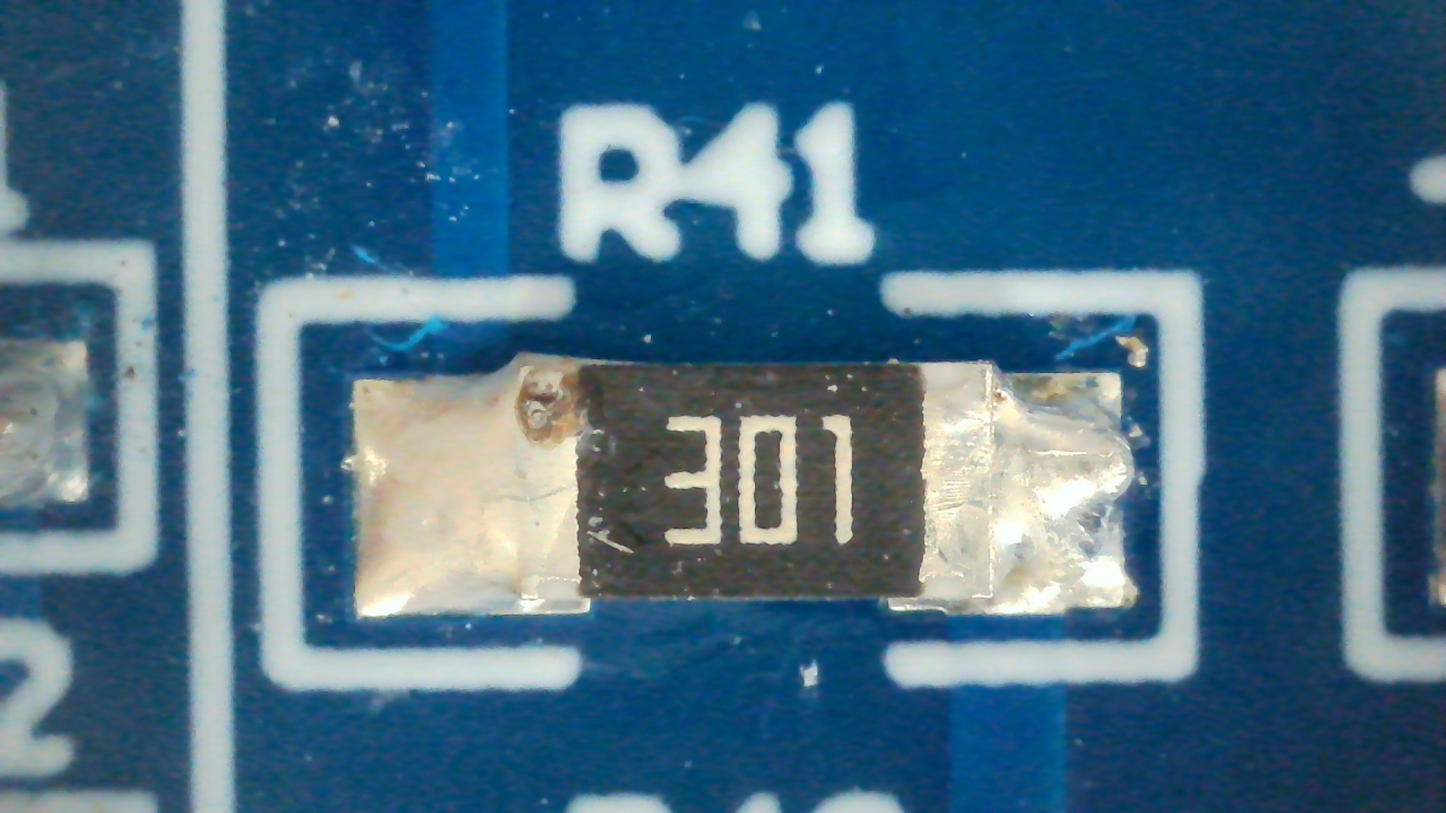OK: (354, 357, 1139, 617)
